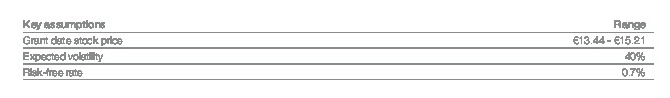table: (0, 0, 670, 98)
